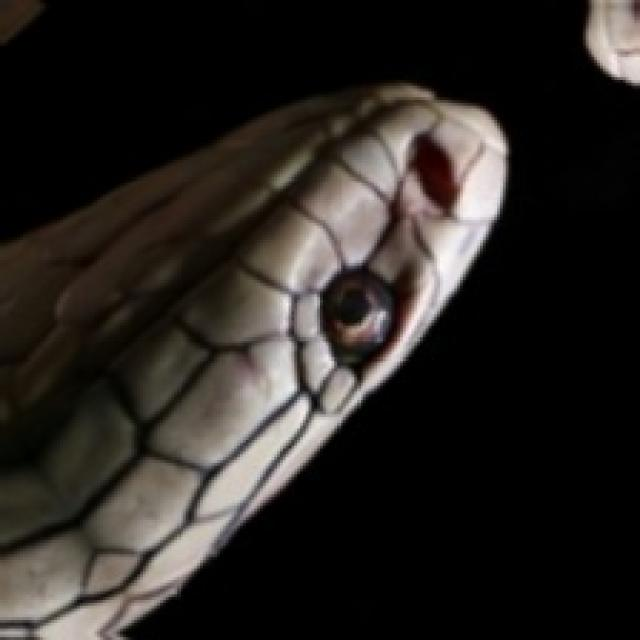king cobra: (0, 83, 506, 637)
